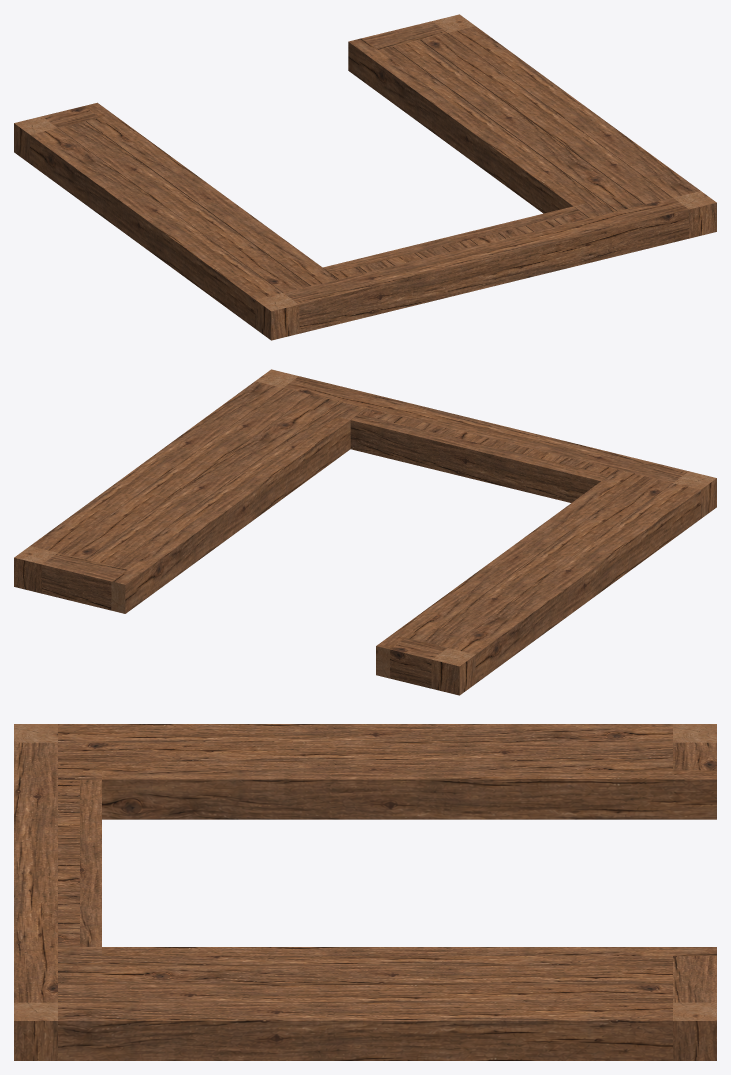
File: TimberFloorStairwell_4.00Wx0.25Hx4.00D_UV1.fbx
3 renders of one model, top to bottom at view 1: azimuth 30°, elevation 25°; view 2: azimuth 150°, elevation 25°; view 3: azimuth 270°, elevation 25°, orthographic. The views are drawn at different scales.
Parts seen in each view (by area): view 1: Modular_TimberFloorStairwell_UV1_Export; view 2: Modular_TimberFloorStairwell_UV1_Export; view 3: Modular_TimberFloorStairwell_UV1_Export.
Boxes of the visible parts, box(x1,y1,x2,y2) form: Modular_TimberFloorStairwell_UV1_Export: box(14, 14, 716, 340); Modular_TimberFloorStairwell_UV1_Export: box(14, 369, 716, 695); Modular_TimberFloorStairwell_UV1_Export: box(14, 724, 716, 1060).
Bounding box in the file's own units: 4 × 0.25 × 4.
